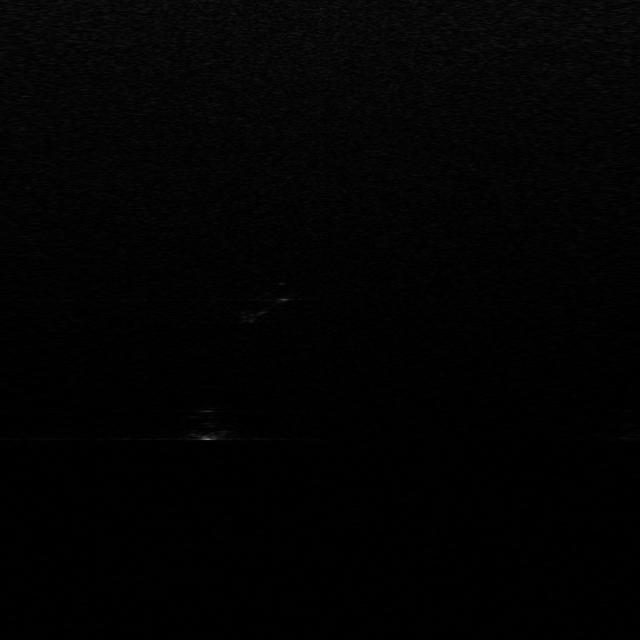ball: (186, 407, 240, 442)
tyre: (236, 282, 296, 322)
